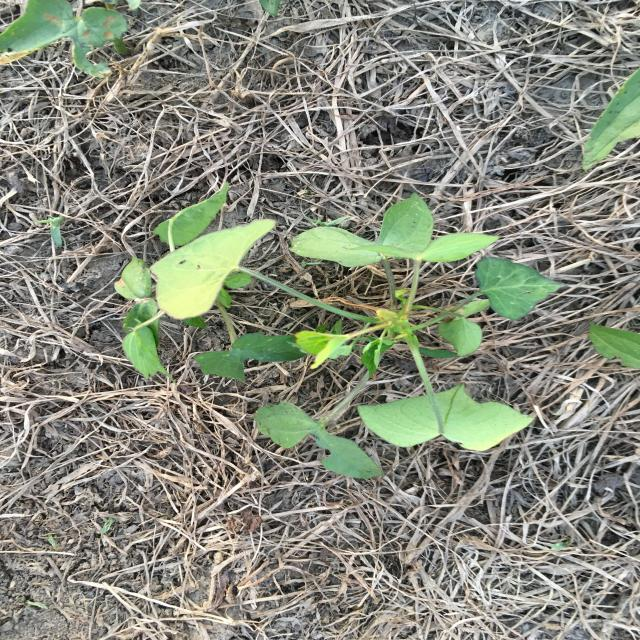MorningGlory: (114, 182, 568, 480)
